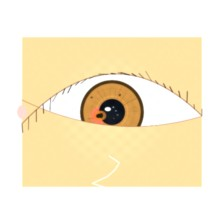foreign_body_visible: (85, 105, 113, 127)
